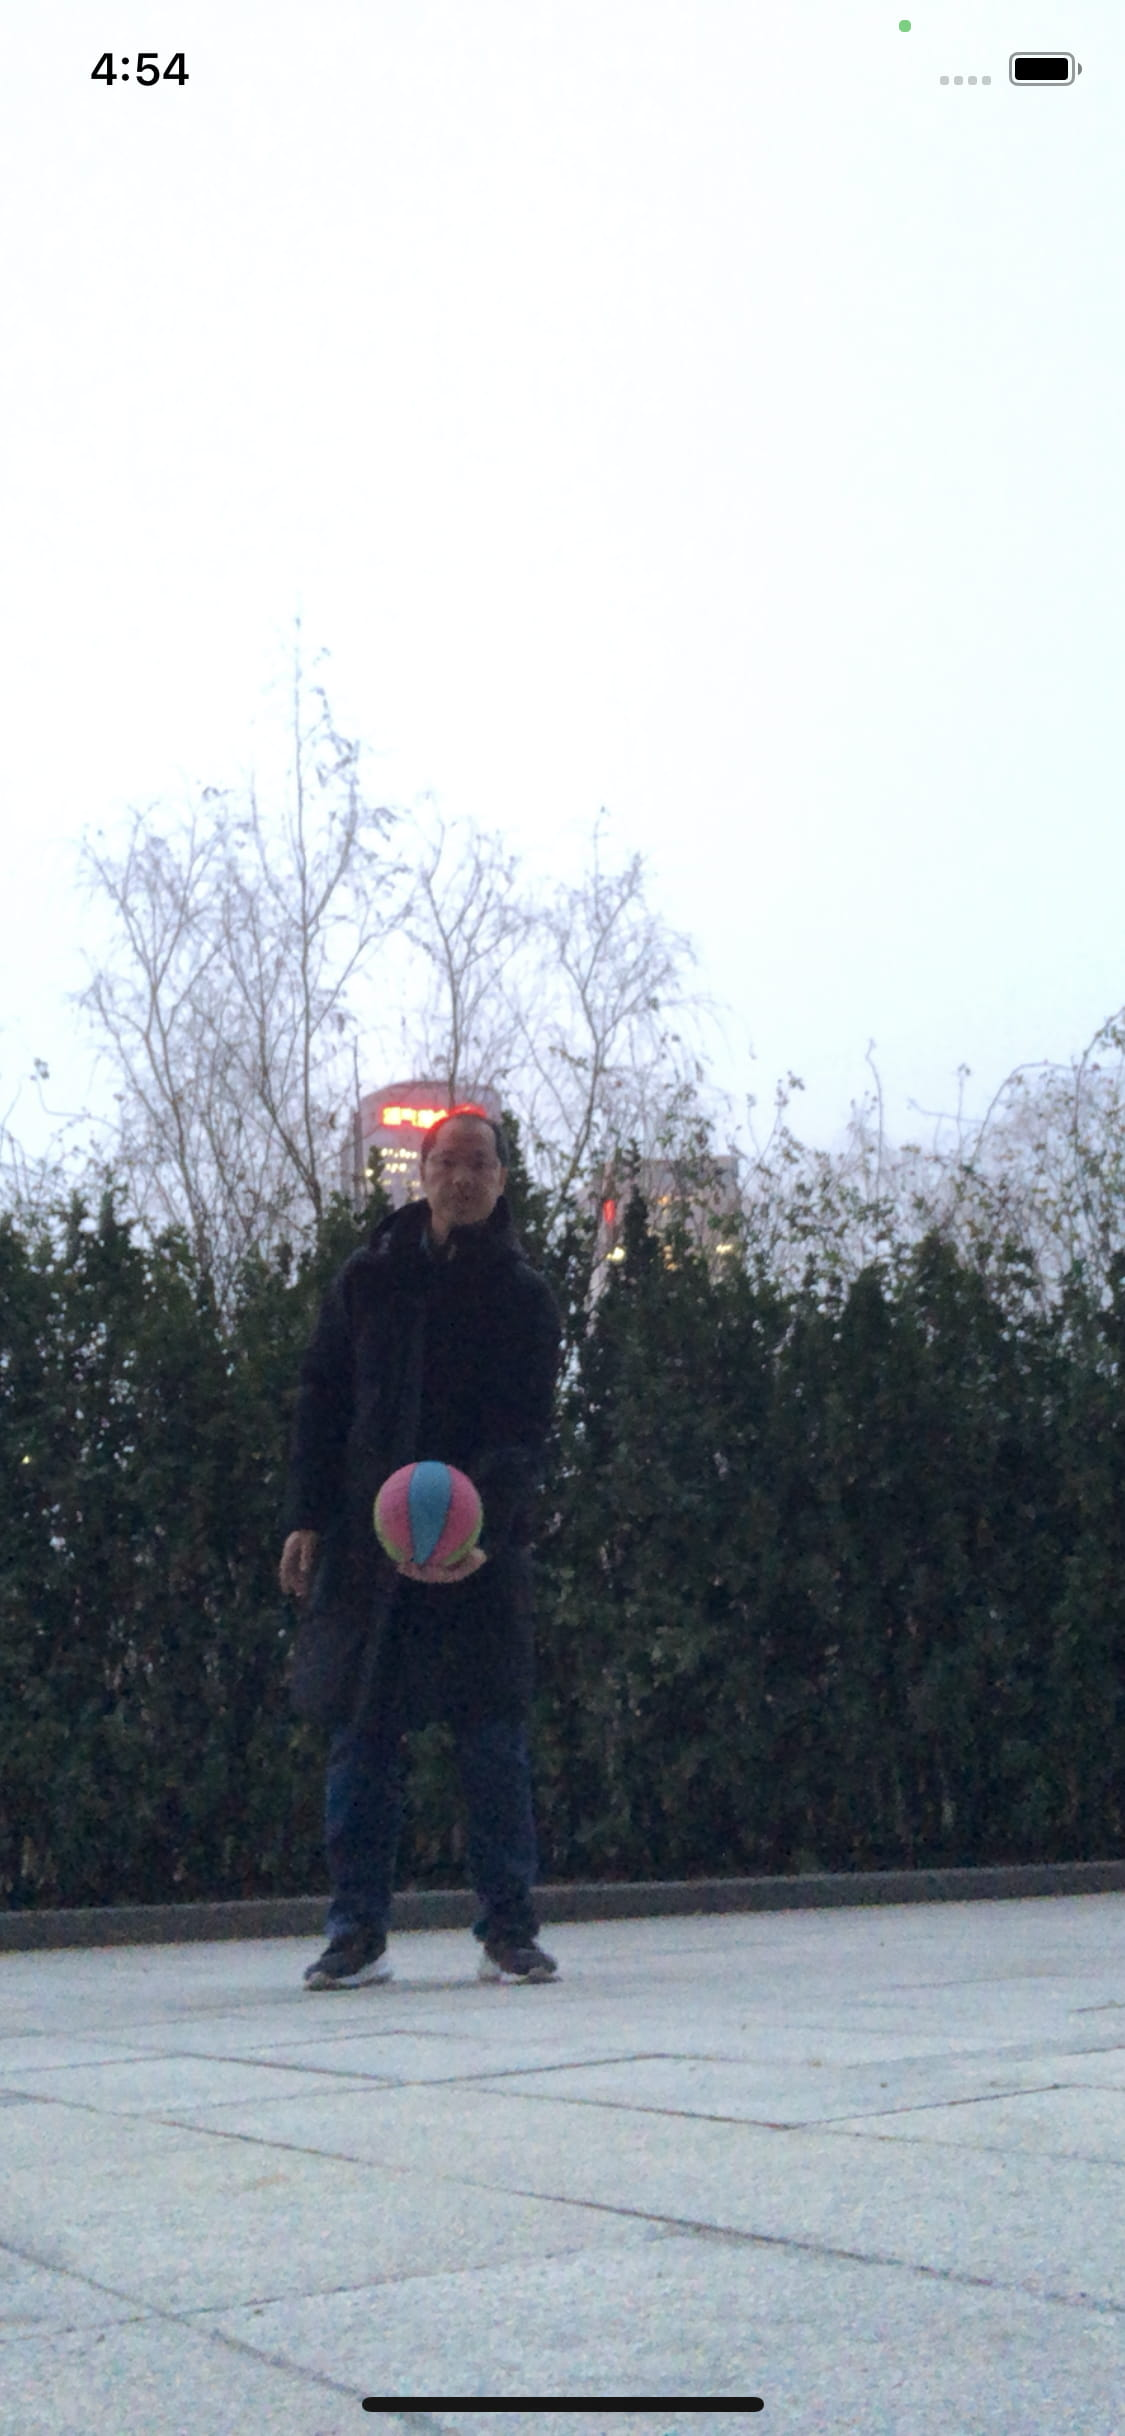ball: (374, 1457, 486, 1575)
